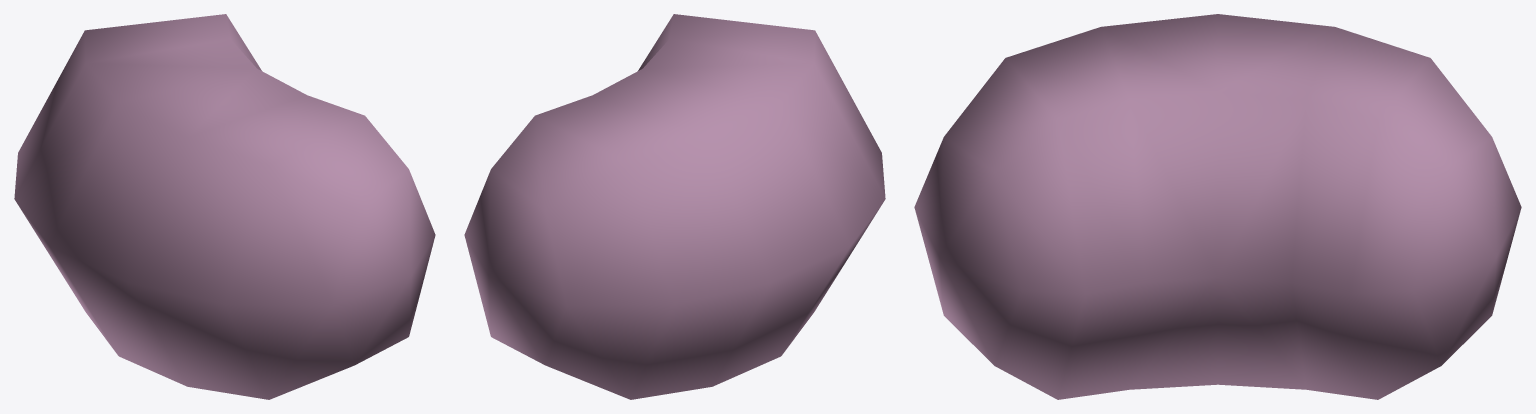
File: SM_Candy_001.fbx
3 views of the same model, side by side, from view 1: azimuth 30°, elevation 25°; view 2: azimuth 150°, elevation 25°; view 3: azimuth 270°, elevation 25° (orthographic). The views are drawn at different scales.
Parts seen in each view (by area): view 1: pCylinder5; view 2: pCylinder5; view 3: pCylinder5.
Part boxes in pixels (left/top/right/bottom): pCylinder5: left=14, top=14, right=435, bottom=399; pCylinder5: left=464, top=14, right=885, bottom=399; pCylinder5: left=914, top=14, right=1521, bottom=399.
Bounding box in the file's own units: 0.0978 × 0.0773 × 0.1453.
